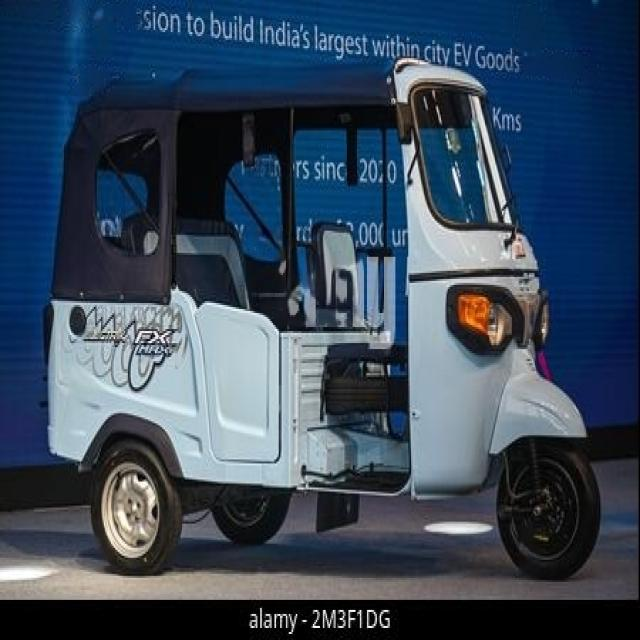autorickshaw: (42, 58, 599, 577)
